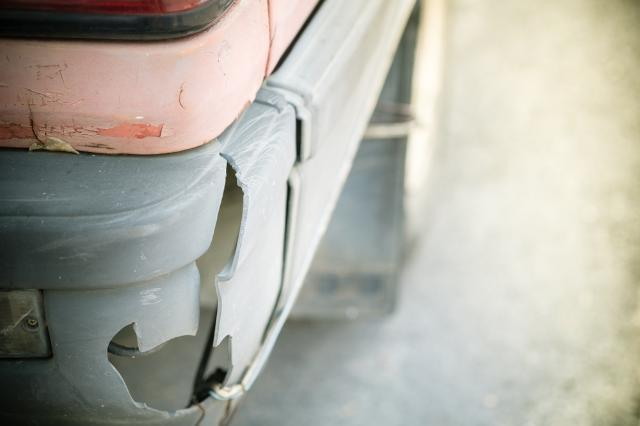crack: (104, 155, 245, 417)
